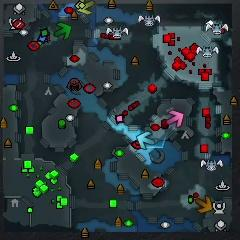x1: (167, 110, 184, 126)
x2: (76, 0, 95, 15)
x3: (137, 132, 155, 149)
x4: (54, 22, 72, 40)
x5: (194, 196, 213, 213)
